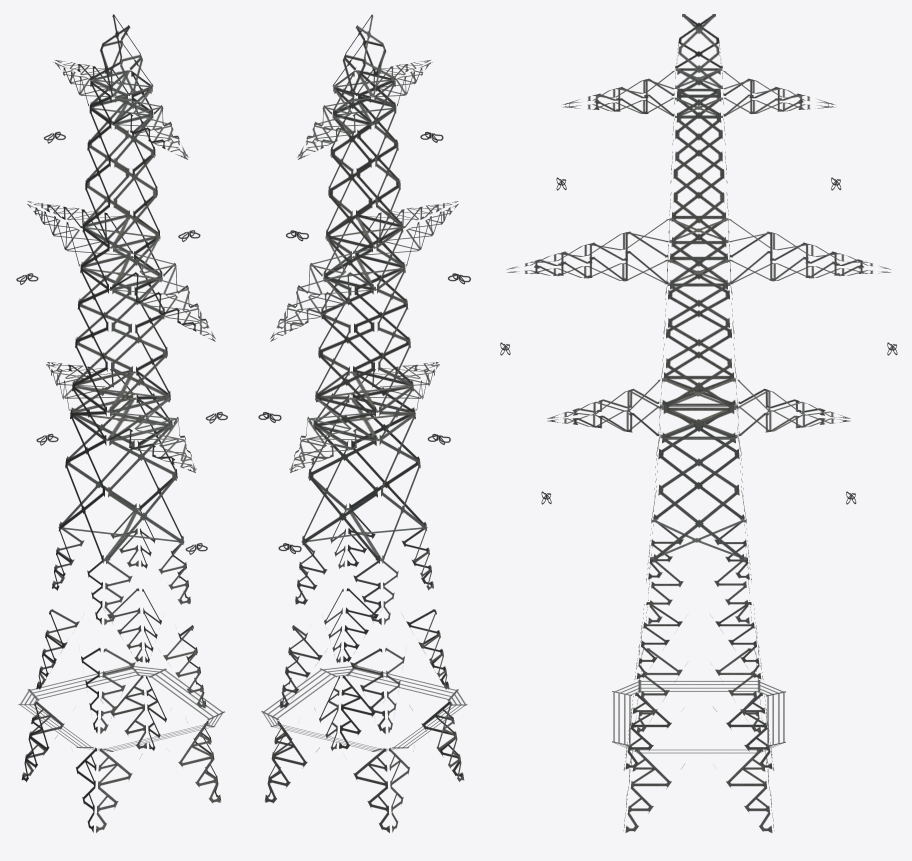
Rendered from object_79_lev2.glb.
3 views of the same model, side by side, from view 1: azimuth 30°, elevation 25°; view 2: azimuth 150°, elevation 25°; view 3: azimuth 270°, elevation 25° (orthographic). The views are drawn at different scales.
Parts seen in each view (by area): view 1: object_79_lev2; view 2: object_79_lev2; view 3: object_79_lev2.
Boxes of the visible parts, box(x1,y1,x2,y2) form: object_79_lev2: box(16, 14, 227, 832); object_79_lev2: box(258, 14, 470, 832); object_79_lev2: box(500, 14, 897, 832).
Bounding box in the file's own units: 6.29 × 31.86 × 14.35.
Materials: 1 (1 with a texture image).
